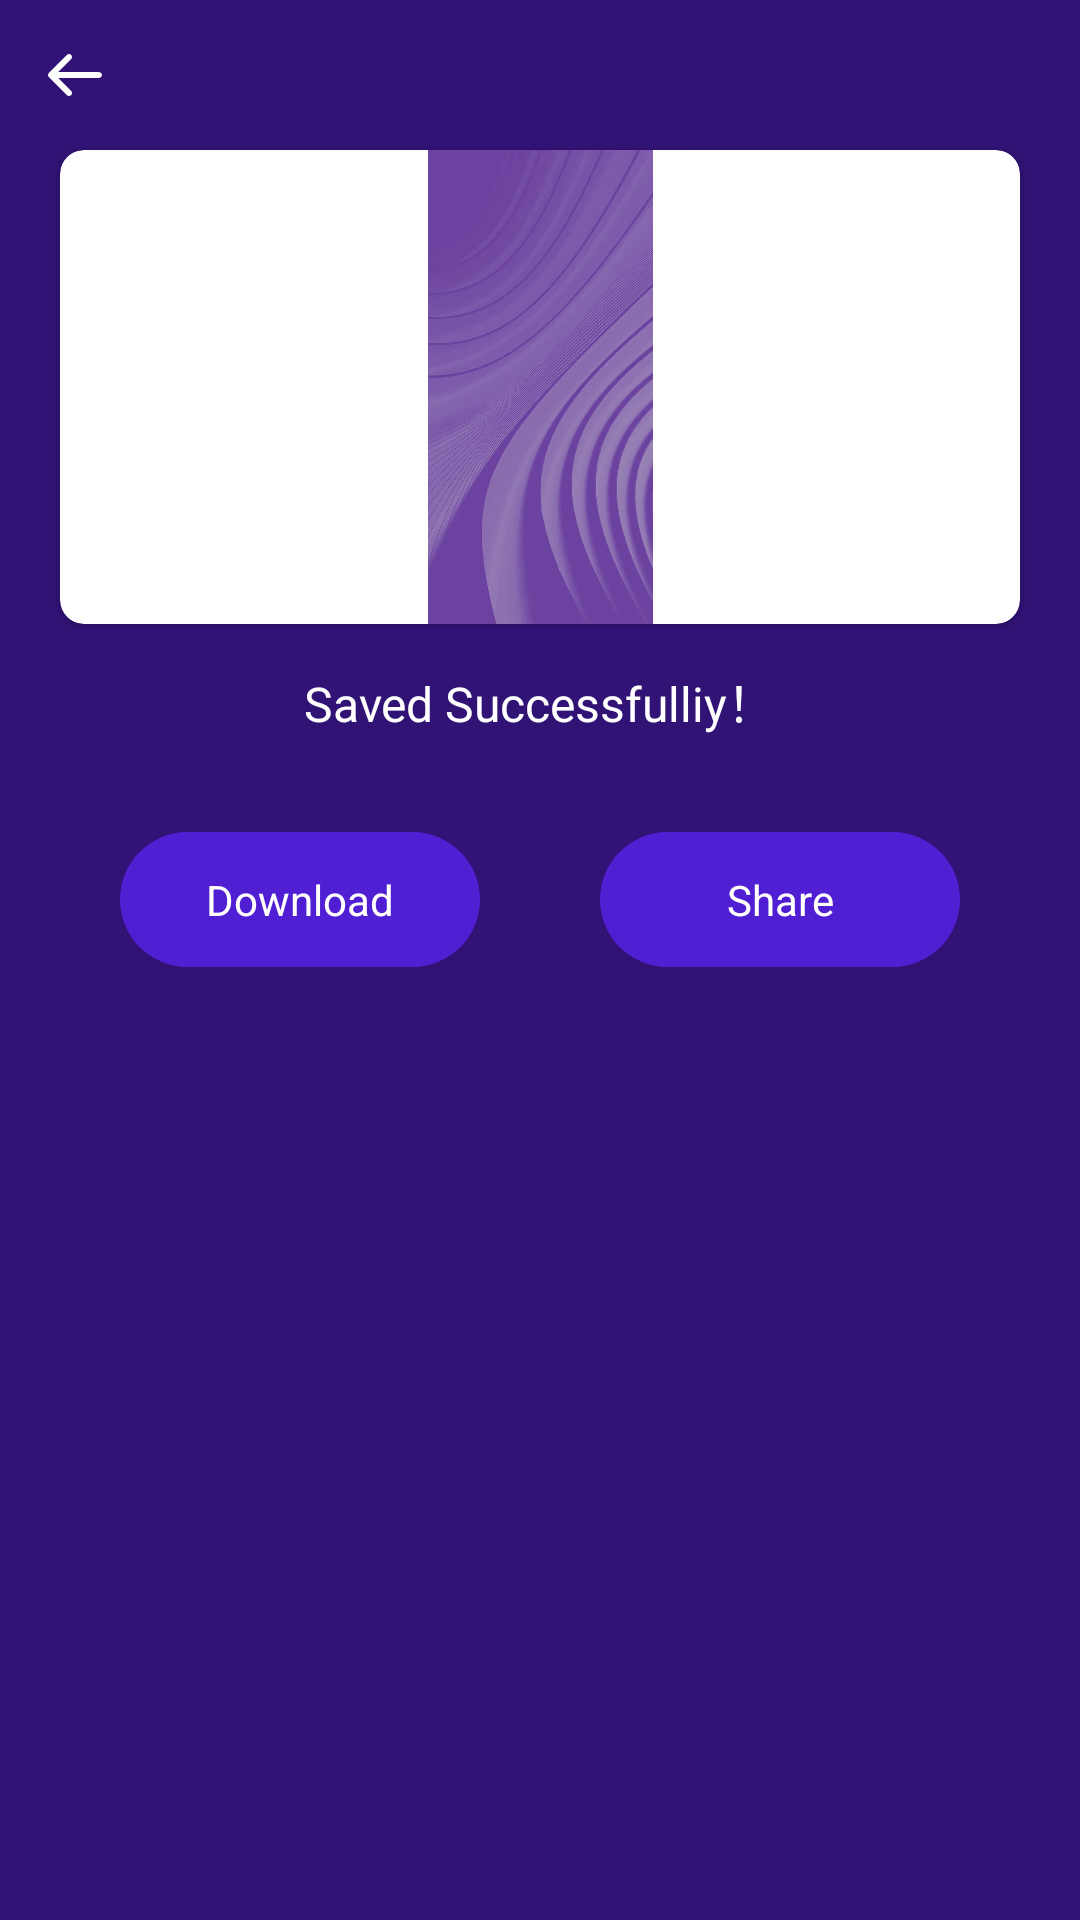

Screen size 1080px×1920px. Icon name, then its center in pixels as (x,y):
finish back: (75,75)
